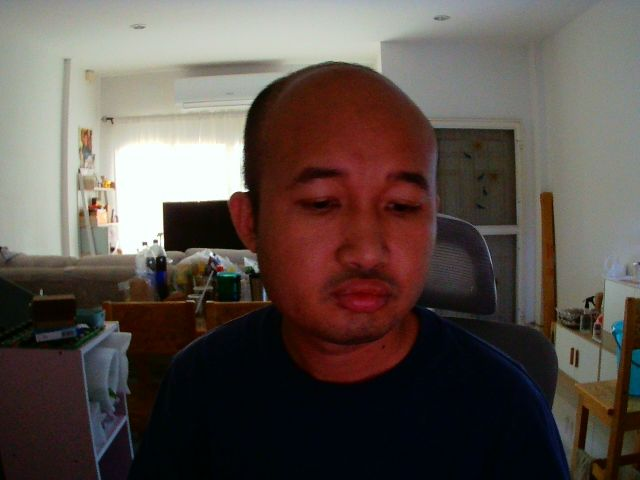face: (240, 63, 441, 346)
